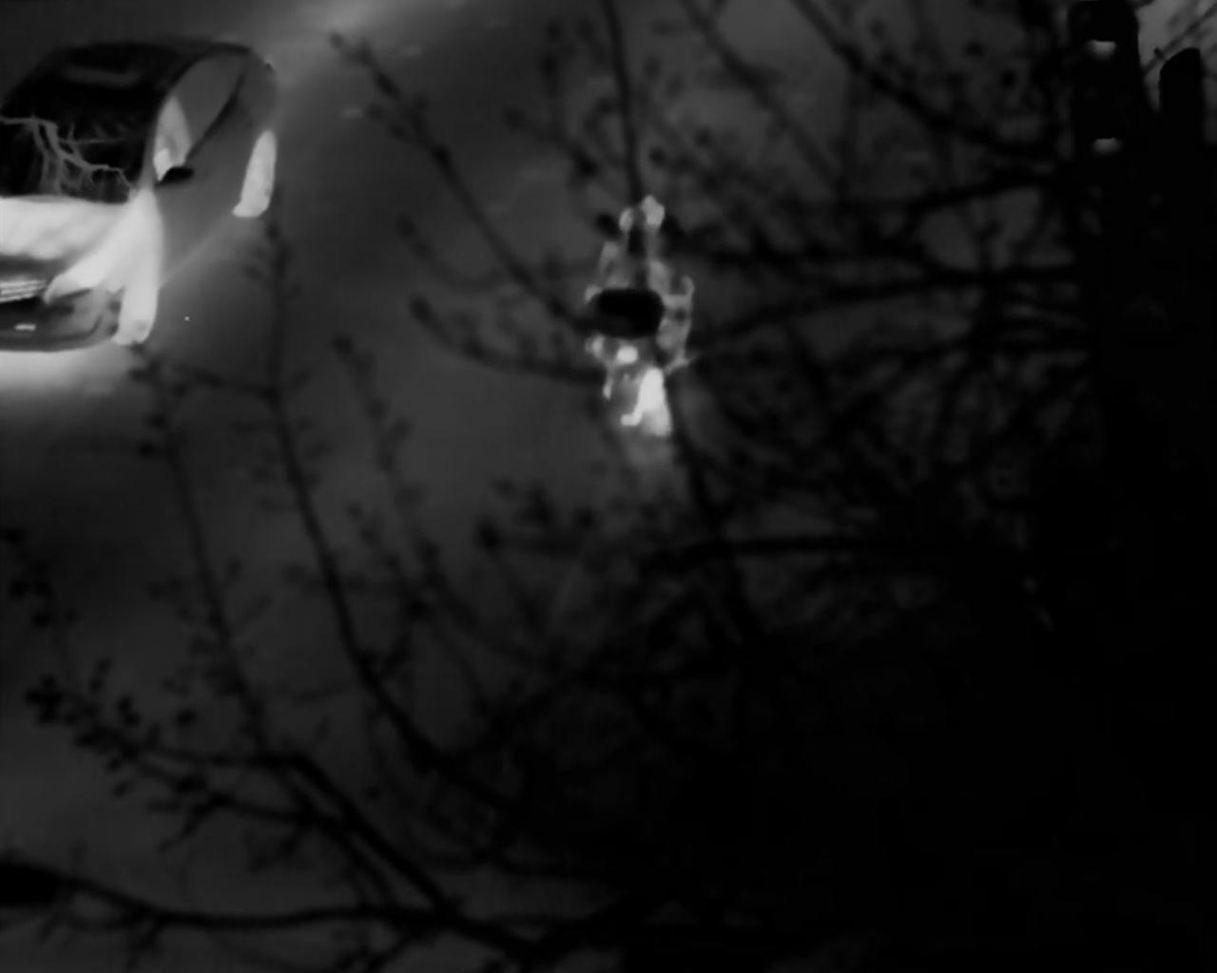person: (606, 197, 700, 440)
